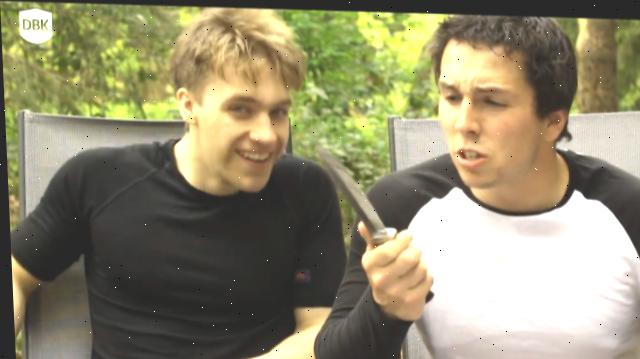pocket-knife: (307, 129, 431, 276)
